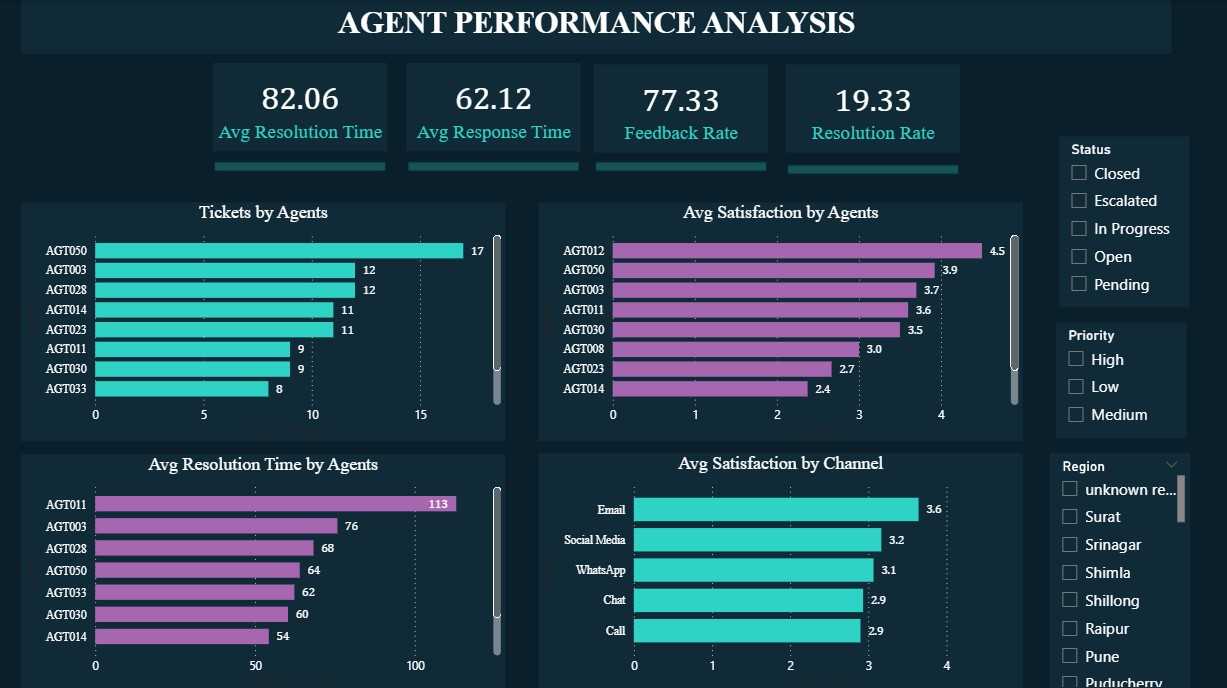

This screenshot's page, from the dashboard's own definition file:
{"tool":"powerbi","page":{"name":"Agent analysis","canvas":[1280,720],"ordinal":2},"visuals":[{"type":"card","fields":{"Values":["Tickets.Avg Resolution Time"]},"box":[221.6,65.3,181.3,92.2],"z":0},{"type":"shape","box":[221.6,166.9,181.3,12.5],"z":1000},{"type":"card","fields":{"Values":["Tickets.Avg Response Time"]},"box":[423.2,65.6,181.3,92.2],"z":2000},{"type":"shape","box":[423.2,167.2,181.3,12.5],"z":3000},{"type":"card","fields":{"Values":["Tickets.Feedback Rate"]},"box":[618.6,67.2,181.3,92.2],"z":4000},{"type":"card","fields":{"Values":["Tickets.Resolution Rate"]},"box":[818.6,67.2,181.3,92.2],"z":5000},{"type":"shape","box":[618.6,167.2,181.3,12.5],"z":6000},{"type":"shape","box":[818.6,170.4,181.3,12.5],"z":7000},{"type":"clusteredBarChart","title":"Tickets by Agents","fields":{"Y":["CountNonNull(Tickets.TicketID)"],"Category":["Tickets.AgentID"]},"box":[21.9,211,504.8,248.5],"z":8000},{"type":"clusteredBarChart","title":"Avg Resolution Time by Agents","fields":{"Category":["Tickets.AgentID"],"Y":["Tickets.Avg Resolution Time"]},"box":[21.9,473.6,504.8,247],"z":9000},{"type":"clusteredBarChart","title":"Avg Satisfaction by Agents","fields":{"Category":["Tickets.AgentID"],"Y":["Tickets.Avg Satisfaction"]},"box":[561.1,211,504.8,248.5],"z":10000},{"type":"slicer","fields":{"Values":["Tickets.Status"]},"box":[1103.5,142.2,136,178.2],"z":11000},{"type":"slicer","fields":{"Values":["Tickets.Priority"]},"box":[1100.3,336,136,120.4],"z":12000},{"type":"slicer","fields":{"Values":["Tickets.Region"]},"box":[1094.1,472,145.4,248.5],"z":13000},{"type":"textbox","box":[21.9,0,1198.8,56.3],"z":14000},{"type":"clusteredBarChart","fields":{"Category":["Tickets.Channel"],"Y":["Tickets.Avg Satisfaction"]},"box":[561.1,472,504.8,248.5],"z":15000}]}

Visuals, with their boxes in screenshot pixels (x1, y1, x2, y2), scaled from the page's 1280x720 canvas onto the 1227x688 screenshot:
card - Tickets.Avg Resolution Time: <region>212, 62, 386, 150</region>
shape: <region>212, 159, 386, 171</region>
card - Tickets.Avg Response Time: <region>406, 63, 579, 151</region>
shape: <region>406, 160, 579, 172</region>
card - Tickets.Feedback Rate: <region>593, 64, 767, 152</region>
card - Tickets.Resolution Rate: <region>785, 64, 958, 152</region>
shape: <region>593, 160, 767, 172</region>
shape: <region>785, 163, 958, 175</region>
"Tickets by Agents" clusteredBarChart: <region>21, 202, 505, 439</region>
"Avg Resolution Time by Agents" clusteredBarChart: <region>21, 453, 505, 687</region>
"Avg Satisfaction by Agents" clusteredBarChart: <region>538, 202, 1022, 439</region>
slicer - Tickets.Status: <region>1058, 136, 1188, 306</region>
slicer - Tickets.Priority: <region>1055, 321, 1185, 436</region>
slicer - Tickets.Region: <region>1049, 451, 1188, 687</region>
textbox: <region>21, 0, 1170, 54</region>
clusteredBarChart - Tickets.Channel x Tickets.Avg Satisfaction: <region>538, 451, 1022, 687</region>
